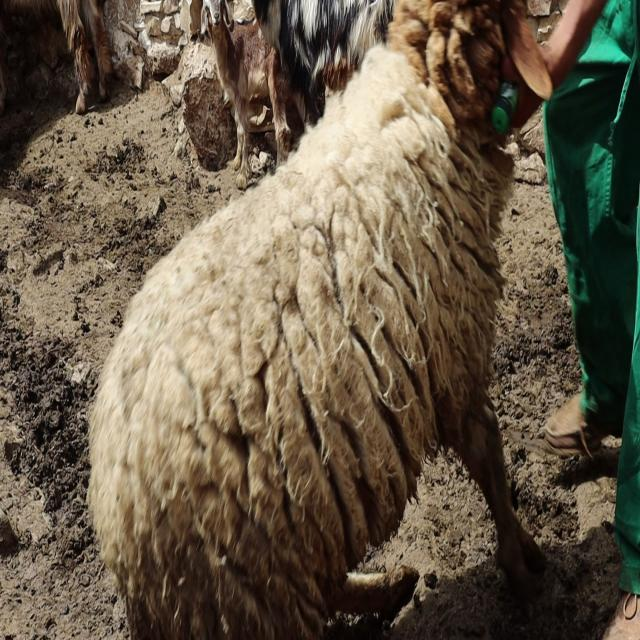Score_2: (89, 0, 539, 639)
